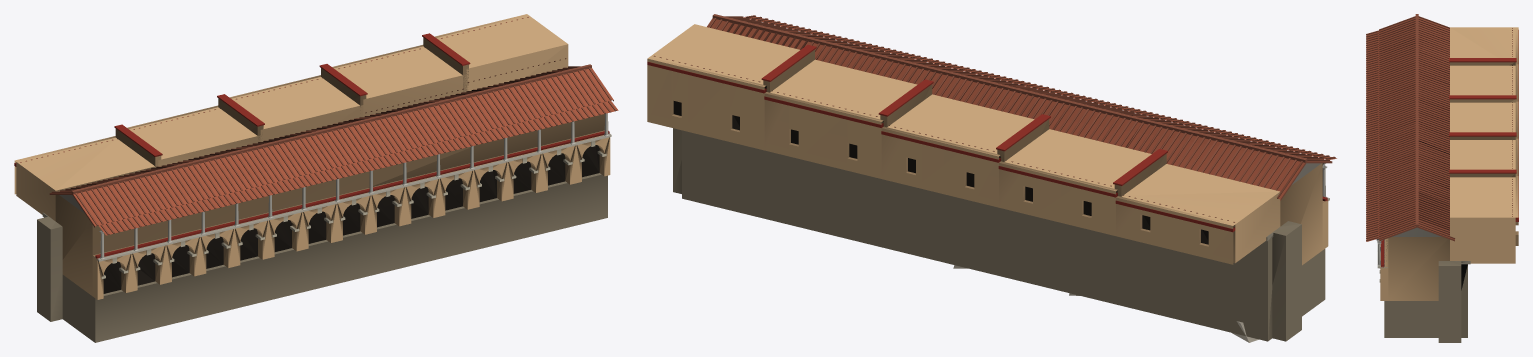
Rendered from rome_pal_block_b.glb.
3 views of the same model, side by side, from view 1: azimuth 30°, elevation 25°; view 2: azimuth 150°, elevation 25°; view 3: azimuth 270°, elevation 25° (orthographic). The views are drawn at different scales.
Parts seen in each view (by area): view 1: rome_pal_block_b; view 2: rome_pal_block_b; view 3: rome_pal_block_b.
Boxes of the visible parts, left/top/right/bottom form: rome_pal_block_b: left=14, top=14, right=618, bottom=342; rome_pal_block_b: left=647, top=14, right=1336, bottom=342; rome_pal_block_b: left=1366, top=14, right=1518, bottom=342.
Bounding box in the file's own units: 62.8 × 17.55 × 18.63.
